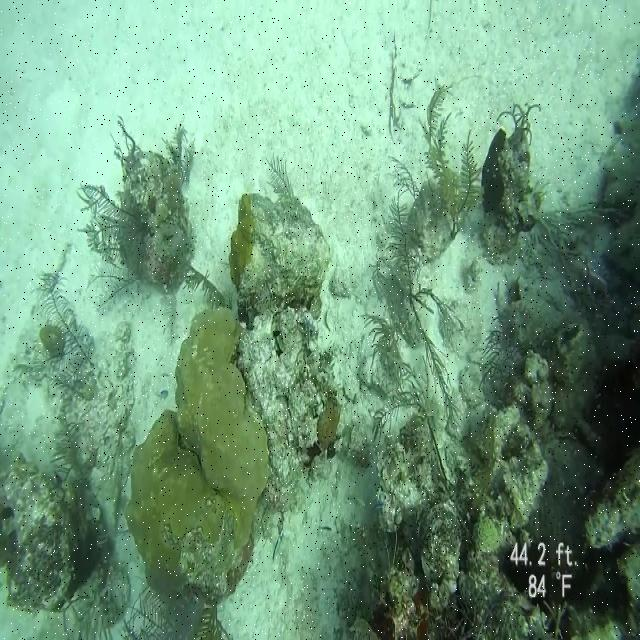aquatic plants: (418, 83, 481, 239)
sea-floor: (125, 193, 345, 609), (0, 452, 88, 611), (120, 153, 195, 291), (481, 126, 544, 234)
